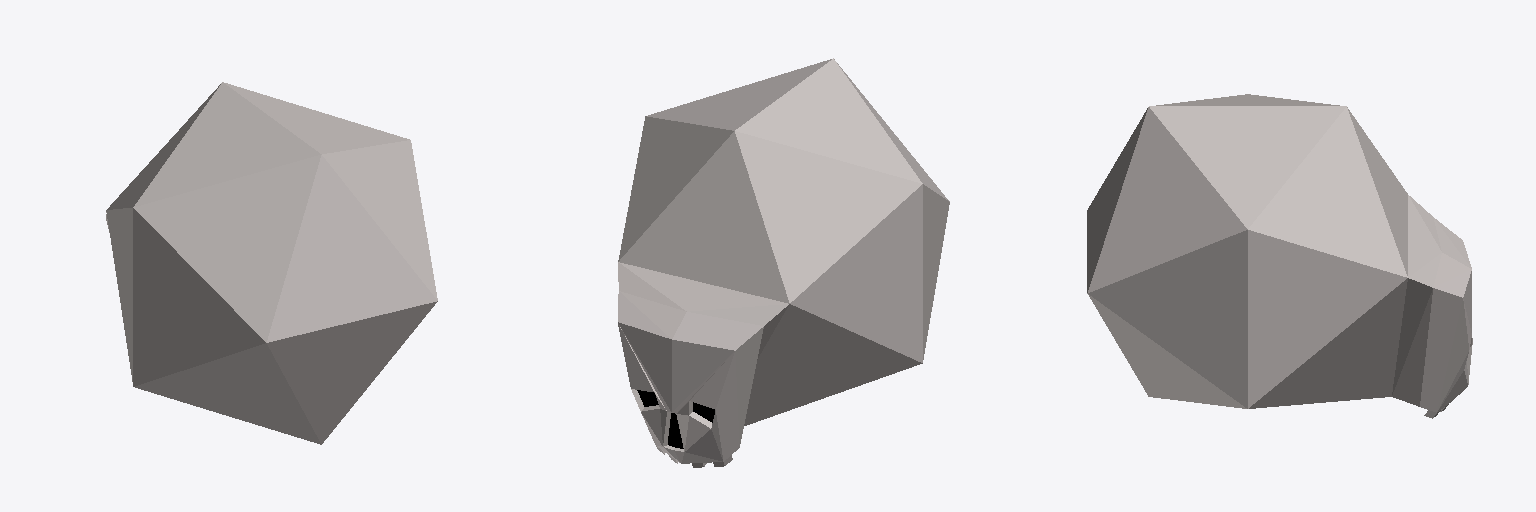
Rendered from dSkull2.obj.
3 views of the same model, side by side, from view 1: azimuth 30°, elevation 25°; view 2: azimuth 150°, elevation 25°; view 3: azimuth 270°, elevation 25° (orthographic).
Parts seen in each view (by area): view 1: dSkull.001_Solid.006; view 2: dSkull.001_Solid.006; view 3: dSkull.001_Solid.006.
Part boxes in pixels (x1,y1,x2,y2): dSkull.001_Solid.006: (106, 82, 437, 444); dSkull.001_Solid.006: (618, 58, 949, 467); dSkull.001_Solid.006: (1087, 94, 1472, 418).
Size of the model in its own units: 1.7 by 1.75 by 2.04.